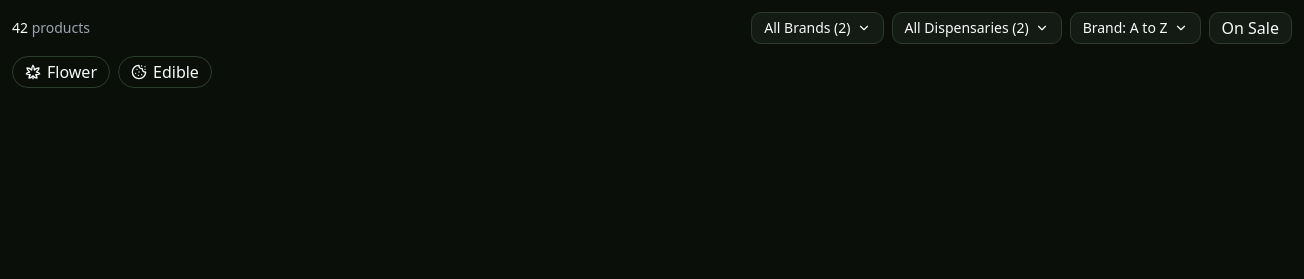
Test: FilterBar sort vocabulary › offers only sorts /search can round-trip — VALID_SORTS drops the others back to brand-asc
What coordinates should you click on to do the following:
click the button "Brand: A to Z"
I would click on:
 (1135, 28)
Its box is [1070,12,1201,44].
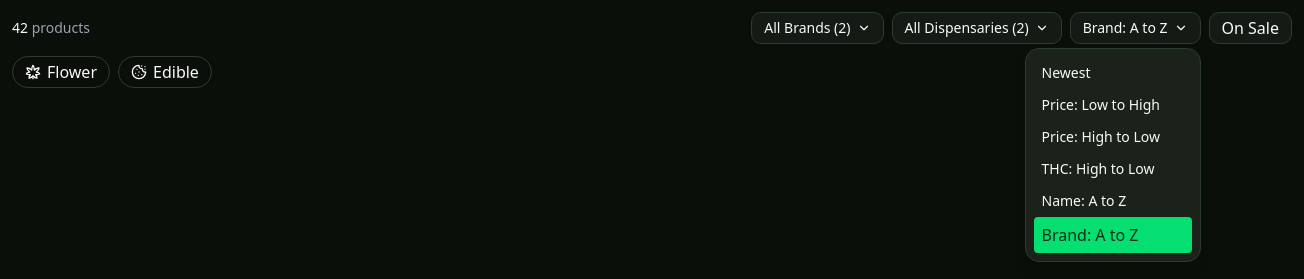
Now the button "Newest" is shown, box [1034,57,1192,89]
Now the button "Price: Low to High" is shown, box [1034,89,1192,121]
Now the button "Price: High to Low" is shown, box [1034,121,1192,153]
